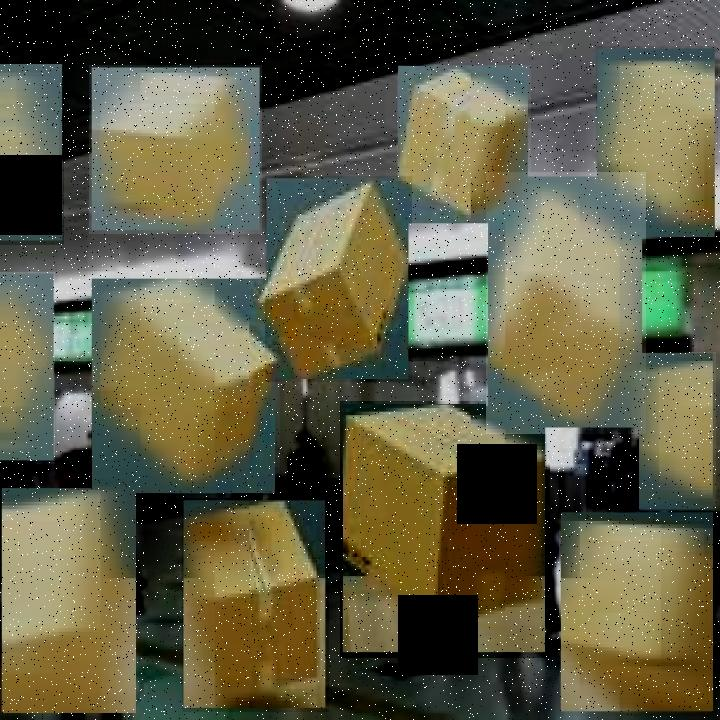box: (340, 402, 550, 660), (89, 275, 280, 499), (486, 172, 646, 434), (558, 509, 718, 716), (0, 486, 138, 716), (182, 498, 329, 712), (265, 176, 412, 382), (89, 65, 262, 234), (596, 46, 718, 241), (397, 65, 531, 226), (640, 352, 718, 513), (0, 61, 64, 245), (0, 272, 55, 464)
